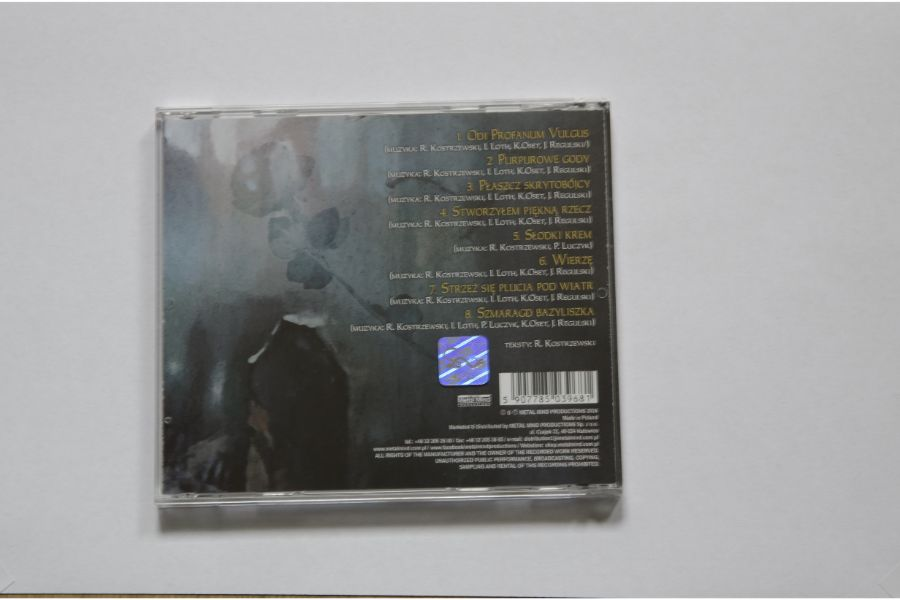album: (150, 107, 623, 501)
